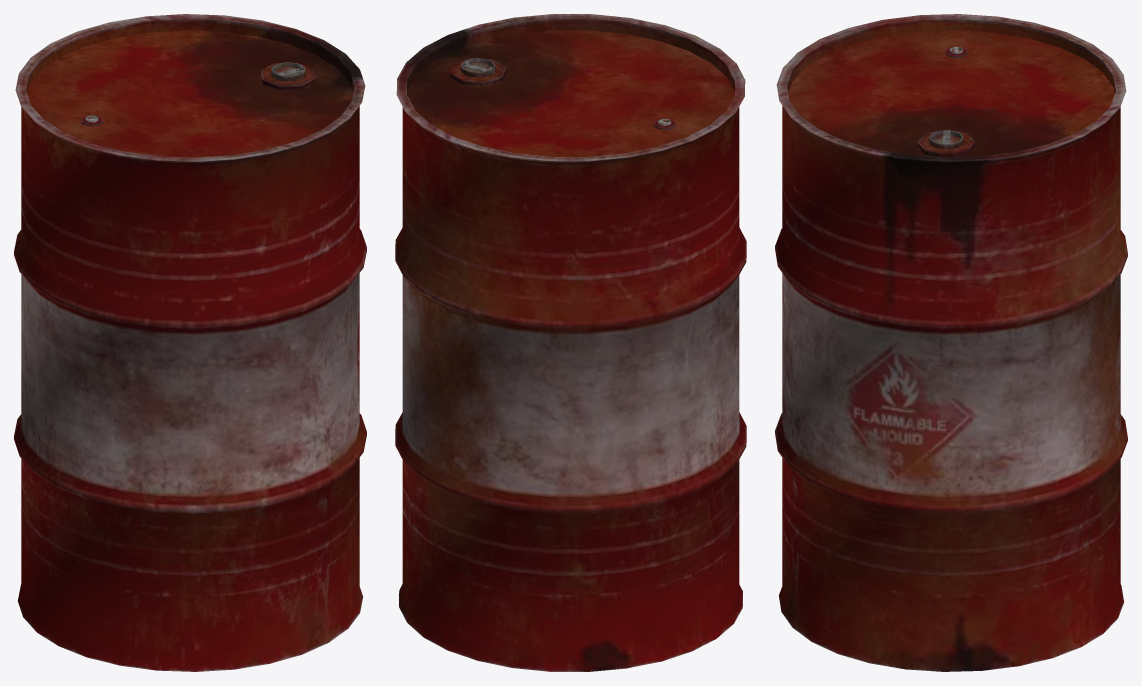
The model's file is p_barrel.glb.
3 views of the same model, side by side, from view 1: azimuth 30°, elevation 25°; view 2: azimuth 150°, elevation 25°; view 3: azimuth 270°, elevation 25° (orthographic).
Visible parts, largest first — view 1: barrel_oil; view 2: barrel_oil; view 3: barrel_oil.
Part boxes in pixels (left/top/right/bottom): barrel_oil: left=14, top=14, right=366, bottom=671; barrel_oil: left=395, top=14, right=746, bottom=671; barrel_oil: left=775, top=14, right=1127, bottom=671.
Bounding box in the file's own units: 0.5629 × 0.9 × 0.5629.
1 material, 1 textured.
